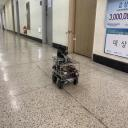cart: (52, 58, 80, 89)
